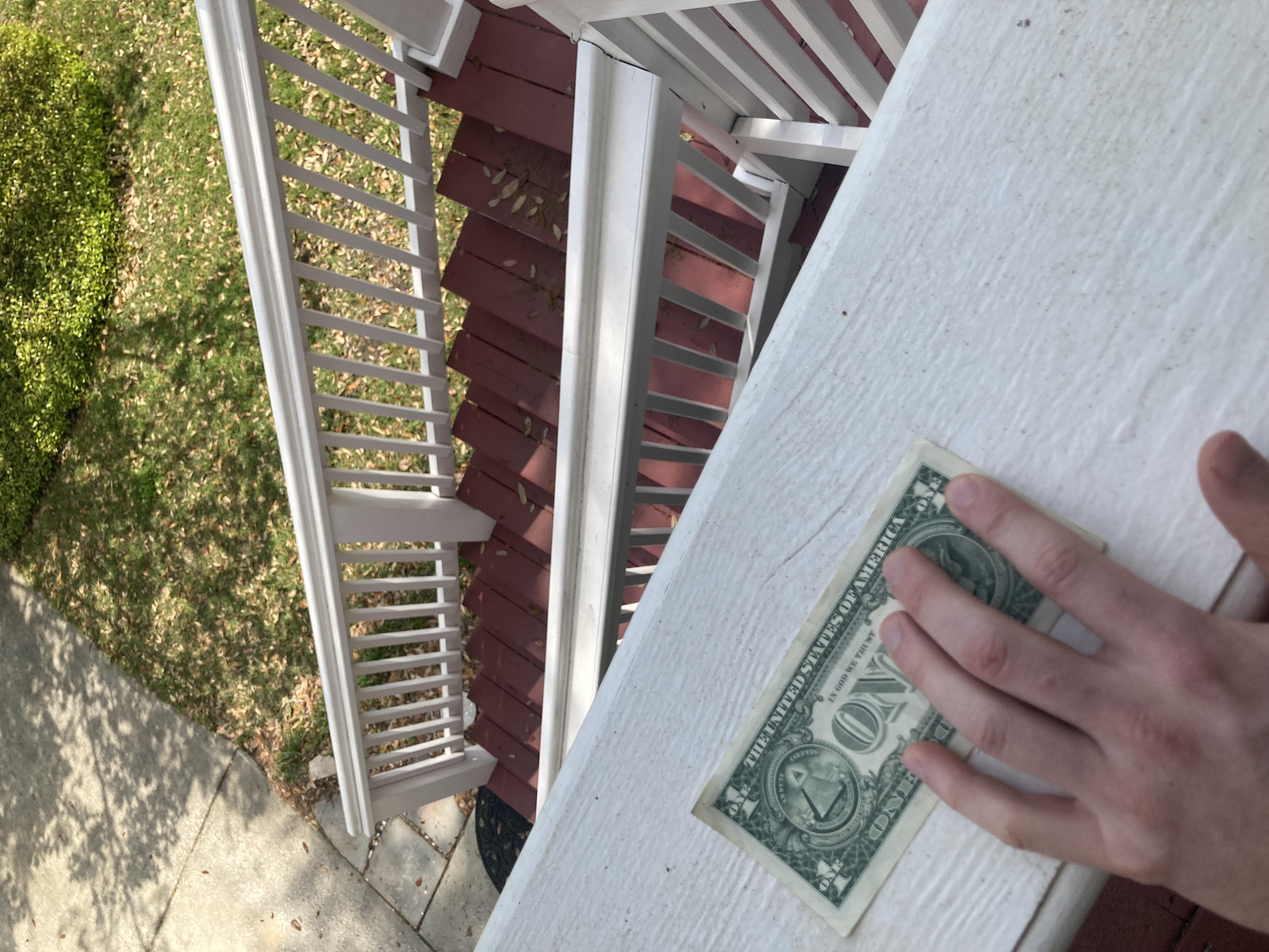one-back: (16, 517, 691, 833)
